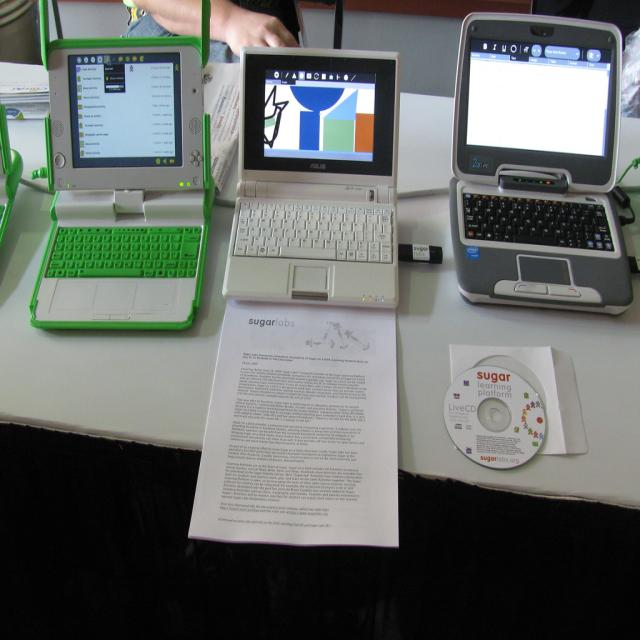Laptop: (27, 0, 216, 331), (448, 10, 634, 316), (222, 44, 401, 312)
